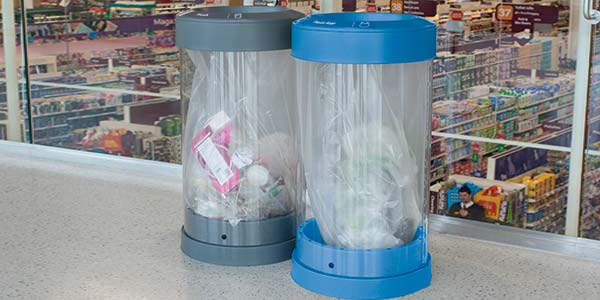plastic_bagwdw: (264, 2, 484, 300), (143, 2, 330, 295)
